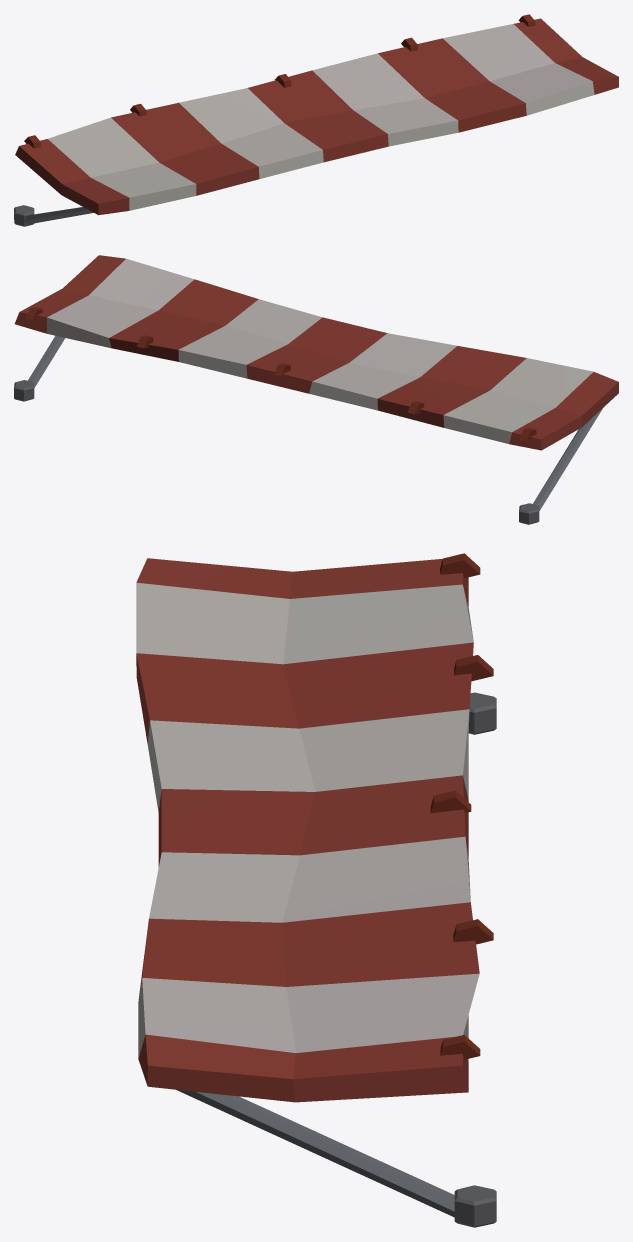
Rendered from SM_Prop_Stall_Awning_01.glb.
The picture shows the model from 3 angles, top to bottom: view 1: azimuth 30°, elevation 25°; view 2: azimuth 150°, elevation 25°; view 3: azimuth 270°, elevation 25°; orthographic projection. The views are drawn at different scales.
Visible parts, largest first — view 1: SM_Prop_Stall_Awning_01; view 2: SM_Prop_Stall_Awning_01; view 3: SM_Prop_Stall_Awning_01.
Part boxes in pixels (<box>): SM_Prop_Stall_Awning_01: <box>14,14,618,226</box>; SM_Prop_Stall_Awning_01: <box>14,255,618,524</box>; SM_Prop_Stall_Awning_01: <box>136,553,496,1227</box>.
Size of the model in its own units: 389 by 63.18 by 115.
Materials: 1 (1 with a texture image).
